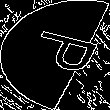P_E: (11, 29, 99, 81)
